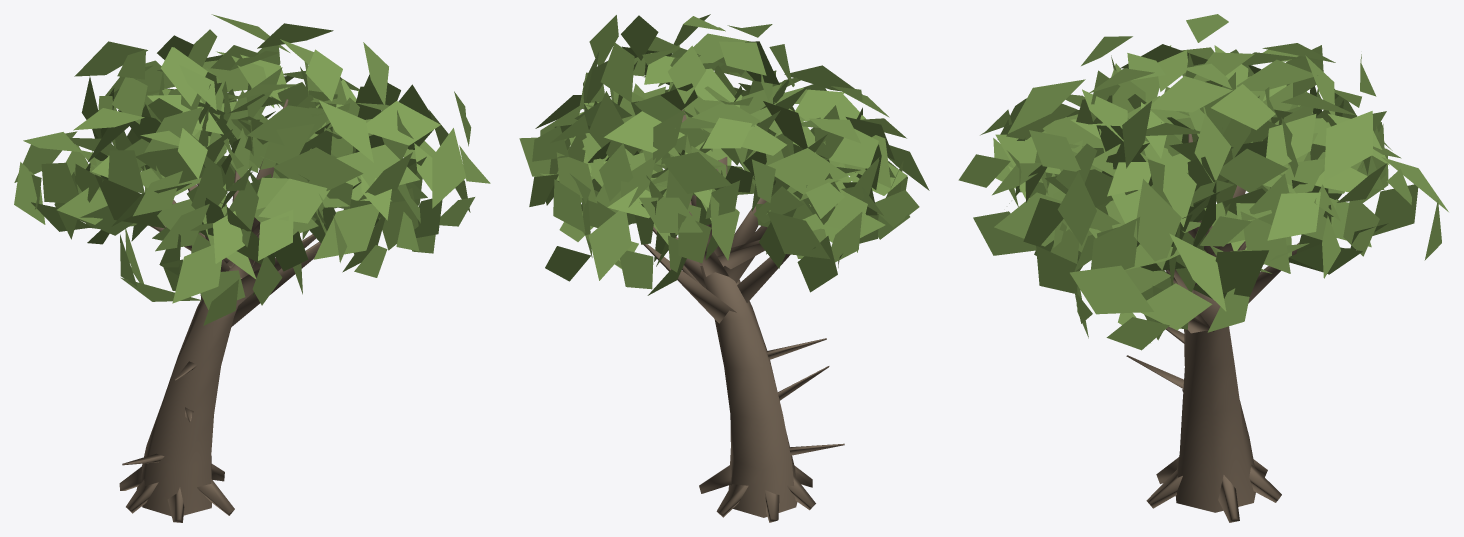
The model's file is oak-old-lod2.glb.
3 views of the same model, side by side, from view 1: azimuth 30°, elevation 25°; view 2: azimuth 150°, elevation 25°; view 3: azimuth 270°, elevation 25° (orthographic). The views are drawn at different scales.
Parts seen in each view (by area): view 1: tree_oak-old_LOD2; view 2: tree_oak-old_LOD2; view 3: tree_oak-old_LOD2.
Boxes of the visible parts, left/top/right/bottom form: tree_oak-old_LOD2: left=14, top=14, right=490, bottom=522; tree_oak-old_LOD2: left=519, top=14, right=929, bottom=522; tree_oak-old_LOD2: left=958, top=14, right=1448, bottom=522.
Bounding box in the file's own units: 10.06 × 11.06 × 10.22.
